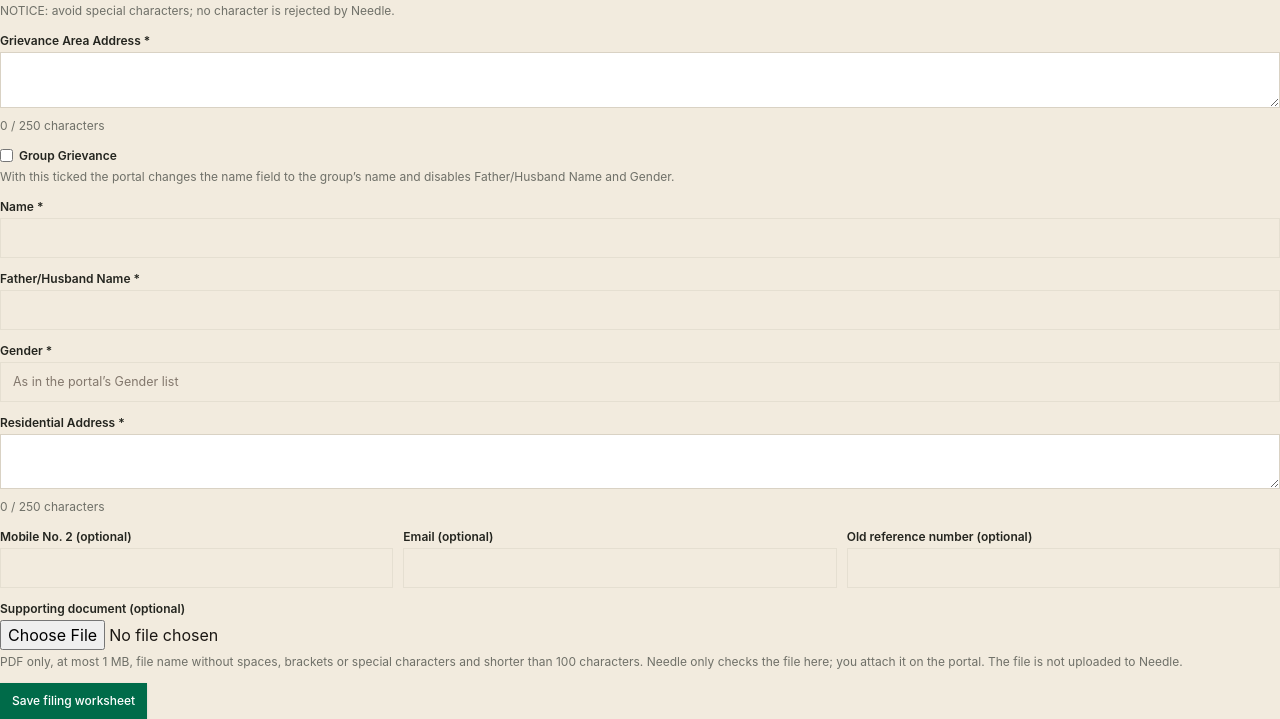
Scenario: DelhiFilingWorksheet › a 409 (already filed by someone else) is reported and the parent is told to refresh
(page scrolled)
Click the button "Save filing worksheet": [74, 701] box top-left (0, 683), bottom-right (147, 718)
(page scrolled)
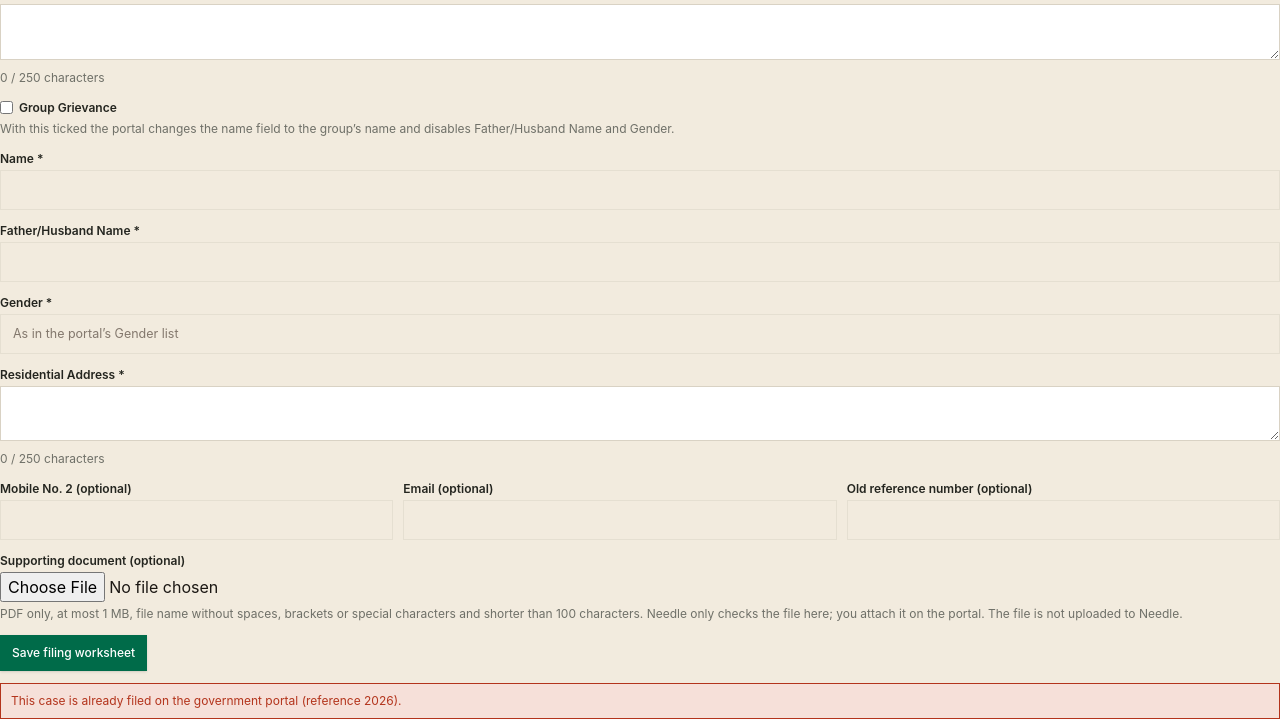
expect the message shows "already filed": met, box top-left (11, 693), bottom-right (402, 708)
